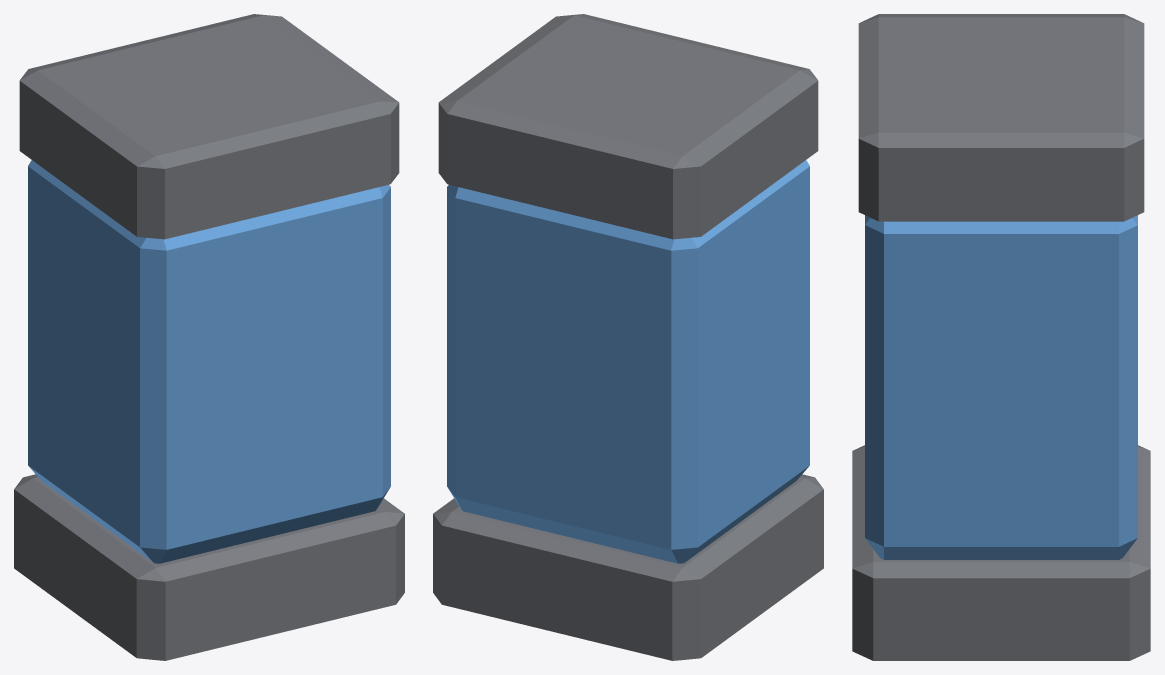
The model's file is b14_postal_relay_storage_box.glb.
The picture shows the model from 3 angles, left to right: view 1: azimuth 30°, elevation 25°; view 2: azimuth 150°, elevation 25°; view 3: azimuth 270°, elevation 25°; orthographic projection. The views are drawn at different scales.
Visible parts, largest first — view 1: b14_postal_relay_storage_box; view 2: b14_postal_relay_storage_box; view 3: b14_postal_relay_storage_box.
Boxes of the visible parts, box(x1,y1,x2,y2) form: b14_postal_relay_storage_box: box(14, 14, 404, 660); b14_postal_relay_storage_box: box(433, 14, 823, 660); b14_postal_relay_storage_box: box(852, 14, 1150, 660).
Size of the model in its own units: 0.75 by 1.34 by 0.691.
